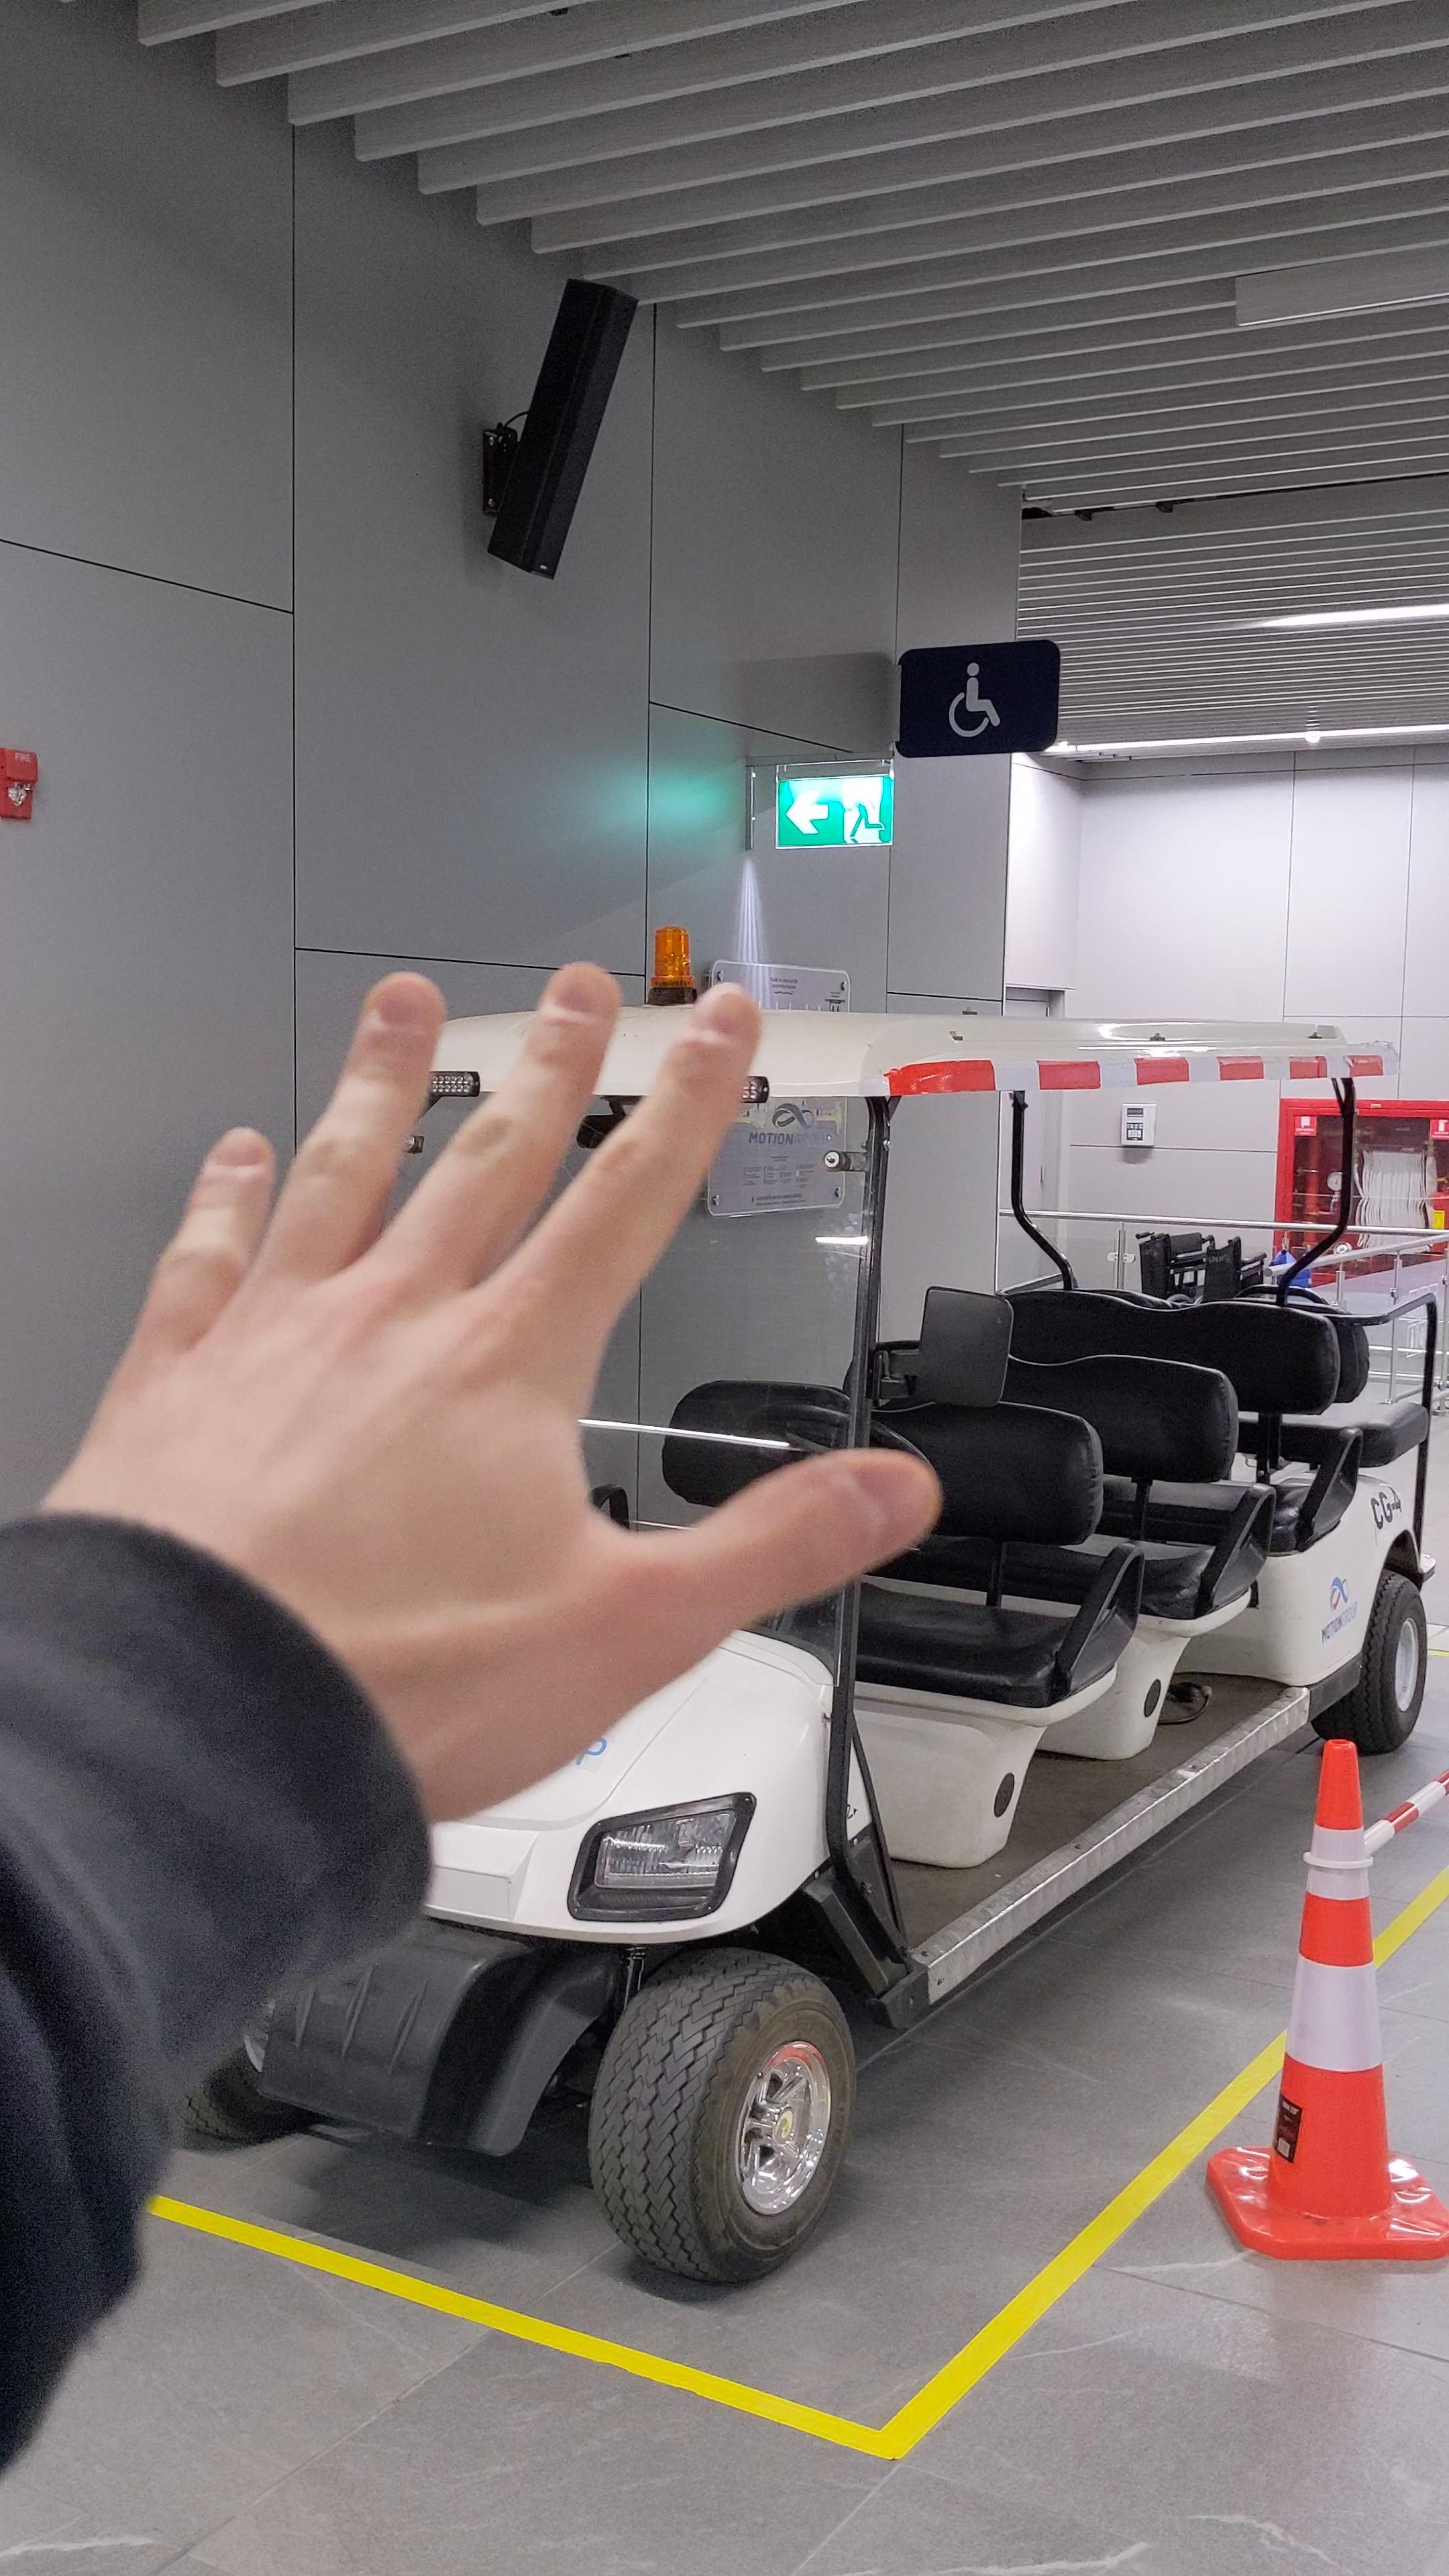emergency exit: (840, 778, 888, 846)
emergency left arrow: (784, 787, 832, 837)
handicapped symbol: (947, 658, 1003, 741)
